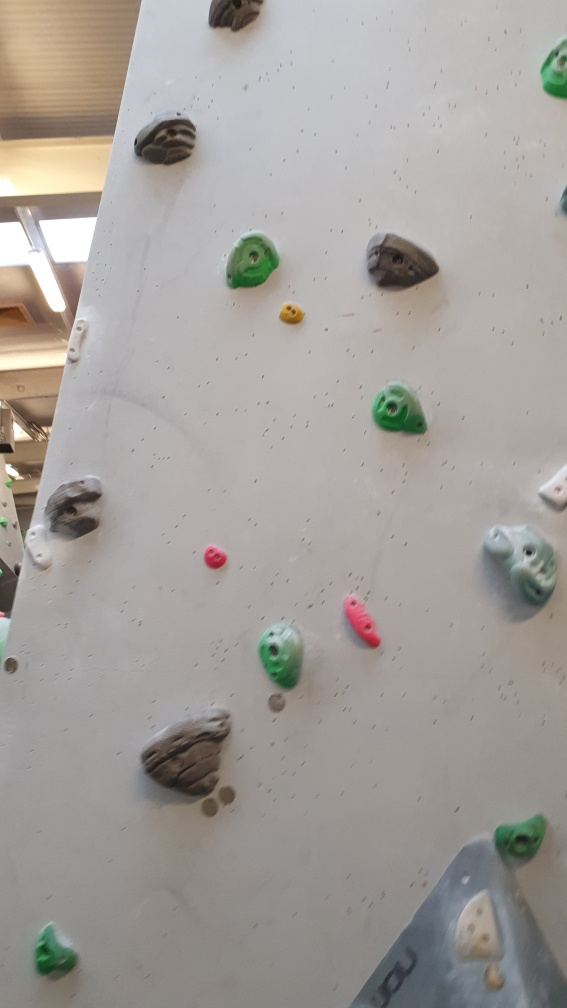Crimp: (346, 593, 380, 649), (536, 457, 567, 509), (25, 525, 57, 573), (66, 318, 89, 366)
Hand Start: (484, 964, 507, 996), (196, 795, 224, 821), (1, 652, 21, 678), (217, 785, 237, 807), (269, 694, 285, 712)
Jug: (134, 704, 230, 799), (482, 518, 559, 604), (361, 229, 440, 295), (40, 474, 106, 532), (255, 619, 308, 691), (131, 110, 197, 167), (225, 231, 284, 293), (366, 380, 429, 436), (497, 813, 548, 860)
Pinch: (202, 539, 232, 569)
